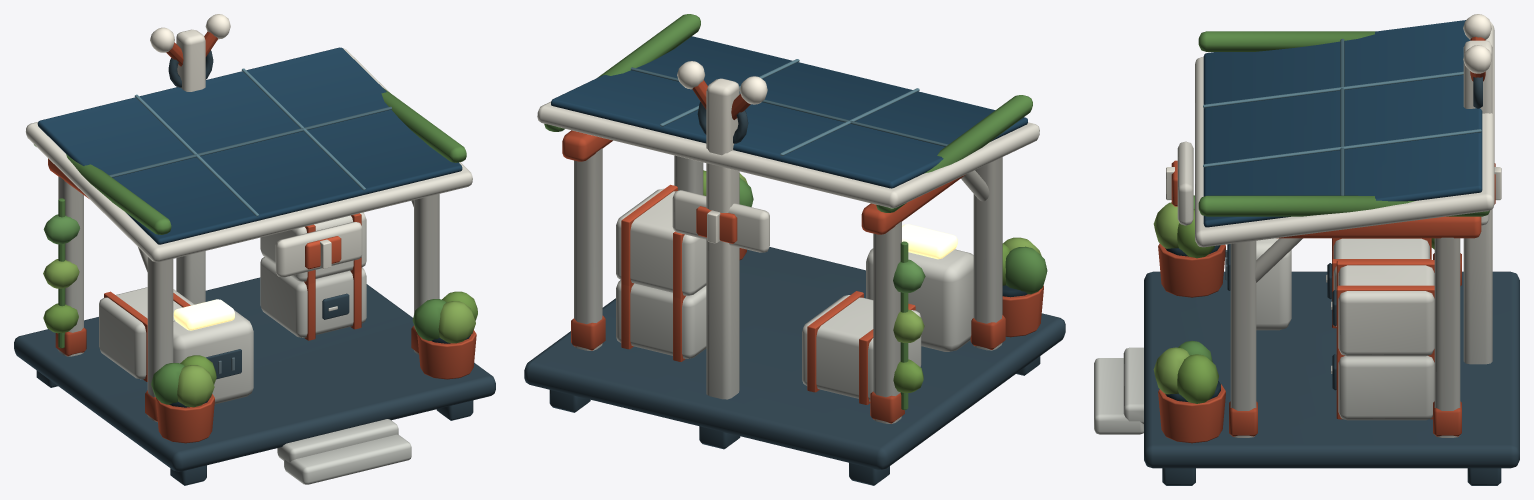
File: depot.glb
3 views of the same model, side by side, from view 1: azimuth 30°, elevation 25°; view 2: azimuth 150°, elevation 25°; view 3: azimuth 270°, elevation 25° (orthographic). The views are drawn at different scales.
Visible parts, largest first — view 1: Depot_solar_canopy_blue_glass, Depot_loading_platform, Depot_solar_canopy_timber_frame, Depot_cargo_crate.001, Depot_dispatch_counter, Depot_cargo_crate, Depot_access_step, Depot_canopy_column, Depot_airship_mast, Depot_canopy_column.002, Depot_freight_sign, Depot_access_step.001 (+24 smaller); view 2: Depot_loading_platform, Depot_solar_canopy_blue_glass, Depot_solar_canopy_timber_frame, Depot_airship_mast, Depot_dispatch_counter, Depot_cargo_crate.002, Depot_cargo_crate, Depot_canopy_column.003, Depot_cargo_crate.001, Depot_canopy_column, Depot_canopy_column.001, Depot_freight_sign.001 (+29 smaller); view 3: Depot_solar_canopy_blue_glass, Depot_loading_platform, Depot_solar_canopy_timber_frame, Depot_cargo_crate.002, Depot_cargo_crate.001, Depot_airship_mast, Depot_canopy_column.003, Depot_canopy_column.002, Depot_canopy_moss_edge.001, Depot_canopy_moss_edge, Depot_canopy_side_beam.001, decor_Terracotta_planter.001 (+22 smaller).
Boxes of the visible parts, x1=… form: Depot_solar_canopy_blue_glass: x1=37, y1=47, x2=462, y2=244; Depot_loading_platform: x1=14, y1=277, x2=495, y2=471; Depot_solar_canopy_timber_frame: x1=25, y1=48, x2=472, y2=262; Depot_cargo_crate.001: x1=260, y1=257, x2=366, y2=337; Depot_dispatch_counter: x1=173, y1=310, x2=253, y2=404; Depot_cargo_crate: x1=99, y1=287, x2=194, y2=379; Depot_access_step: x1=284, y1=434, x2=411, y2=484; Depot_canopy_column: x1=147, y1=257, x2=173, y2=422; Depot_airship_mast: x1=176, y1=29, x2=205, y2=304; Depot_canopy_column.002: x1=414, y1=194, x2=439, y2=355; Depot_freight_sign: x1=275, y1=222, x2=362, y2=277; Depot_access_step.001: x1=277, y1=419, x2=398, y2=462; Depot_loading_platform: x1=524, y1=247, x2=1065, y2=469; Depot_solar_canopy_blue_glass: x1=551, y1=36, x2=1027, y2=188; Depot_solar_canopy_timber_frame: x1=537, y1=101, x2=1039, y2=208; Depot_airship_mast: x1=706, y1=78, x2=739, y2=399; Depot_dispatch_counter: x1=866, y1=248, x2=973, y2=351; Depot_cargo_crate.002: x1=616, y1=188, x2=706, y2=295; Depot_cargo_crate: x1=802, y1=295, x2=921, y2=401; Depot_canopy_column.003: x1=574, y1=148, x2=602, y2=350; Depot_cargo_crate.001: x1=616, y1=280, x2=706, y2=358; Depot_canopy_column: x1=973, y1=157, x2=1002, y2=350; Depot_canopy_column.001: x1=873, y1=221, x2=901, y2=423; Depot_freight_sign.001: x1=672, y1=190, x2=769, y2=252; Depot_solar_canopy_blue_glass: x1=1203, y1=20, x2=1482, y2=227; Depot_loading_platform: x1=1144, y1=271, x2=1519, y2=468; Depot_solar_canopy_timber_frame: x1=1195, y1=22, x2=1494, y2=247; Depot_cargo_crate.002: x1=1338, y1=265, x2=1434, y2=356; Depot_cargo_crate.001: x1=1338, y1=356, x2=1434, y2=420; Depot_airship_mast: x1=1463, y1=40, x2=1492, y2=364; Depot_canopy_column.003: x1=1434, y1=237, x2=1460, y2=437; Depot_canopy_column.002: x1=1230, y1=240, x2=1256, y2=437; Depot_canopy_moss_edge.001: x1=1198, y1=195, x2=1489, y2=216; Depot_canopy_moss_edge: x1=1198, y1=31, x2=1375, y2=51; Depot_canopy_side_beam.001: x1=1276, y1=216, x2=1481, y2=238; decor_Terracotta_planter.001: x1=1158, y1=384, x2=1225, y2=443.
Bounding box in the file's own units: 2.67 × 2.58 × 2.65.
